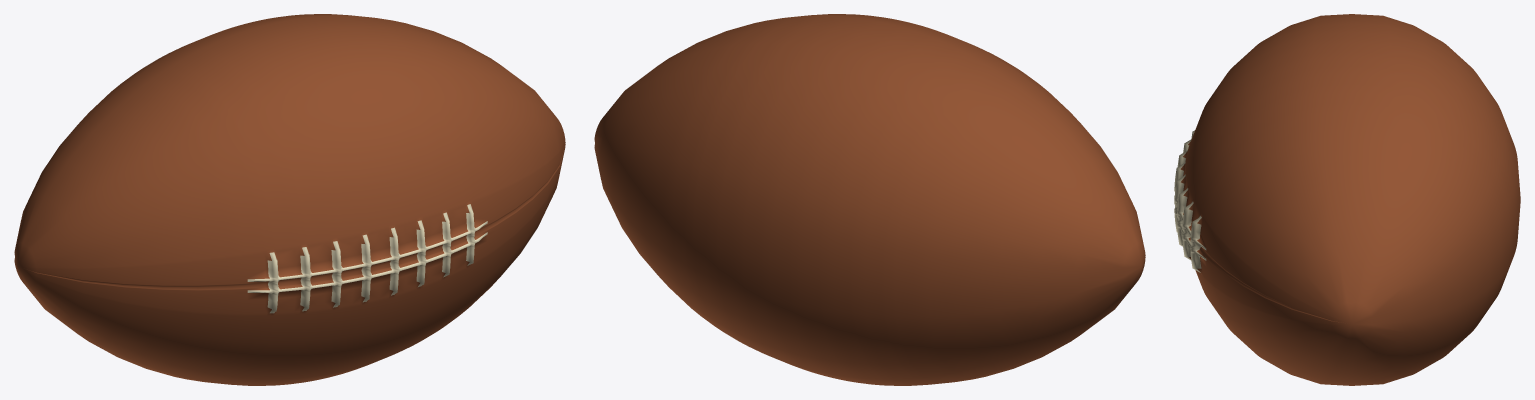
File: A-NEW-20261027-FOOTBALL-001_LOD2_R2.glb
The picture shows the model from 3 angles, left to right: view 1: azimuth 30°, elevation 25°; view 2: azimuth 150°, elevation 25°; view 3: azimuth 270°, elevation 25°; orthographic projection. The views are drawn at different scales.
Parts seen in each view (by area): view 1: continuous original football body seam and lacing; view 2: continuous original football body seam and lacing; view 3: continuous original football body seam and lacing.
Part boxes in pixels (x1,y1,x2,y2): continuous original football body seam and lacing: [14, 14, 565, 385]; continuous original football body seam and lacing: [594, 14, 1145, 385]; continuous original football body seam and lacing: [1174, 14, 1520, 385].
Bounding box in the file's own units: 0.29 × 0.1664 × 0.1708.
